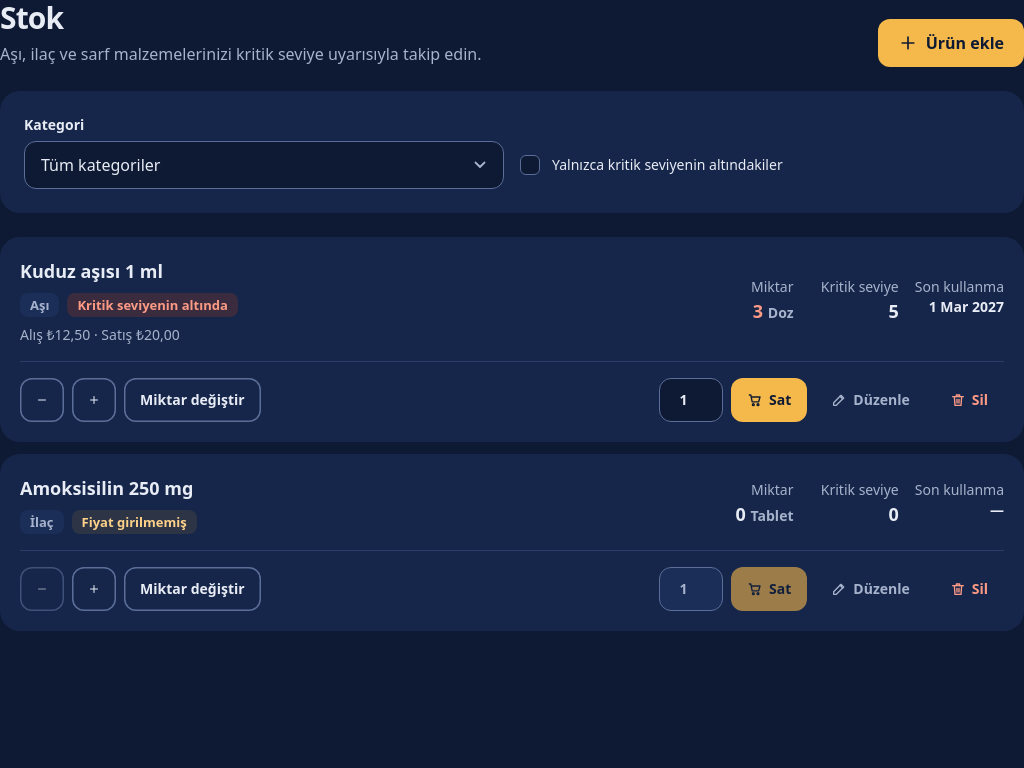
Test: StockPage — miktar değiştir › stoğa ekleme pozitif delta gönderir
Click the button named "Miktar değiştir: Kuduz aşısı 1 ml" at [192, 400], box 124,378 -> 261,422
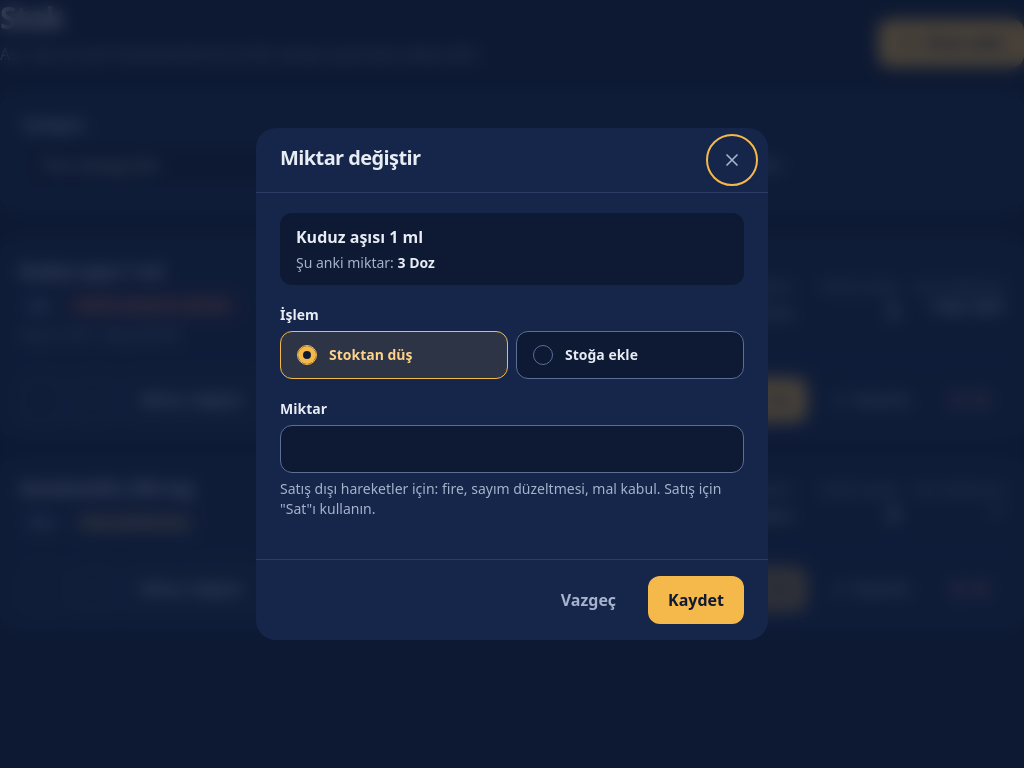
Click the radio button labelled "Stoğa ekle" at [543, 355], box 533,345 -> 553,365
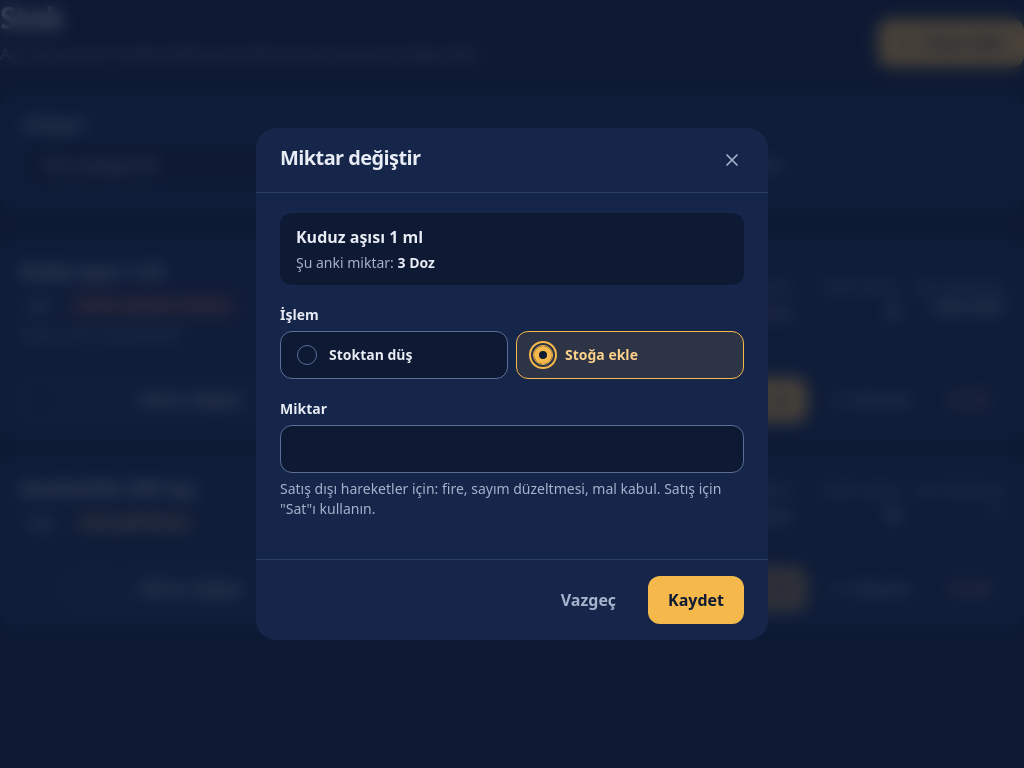
Type "10" into the number field labelled "Miktar" at [512, 449], box 280,425 -> 744,473
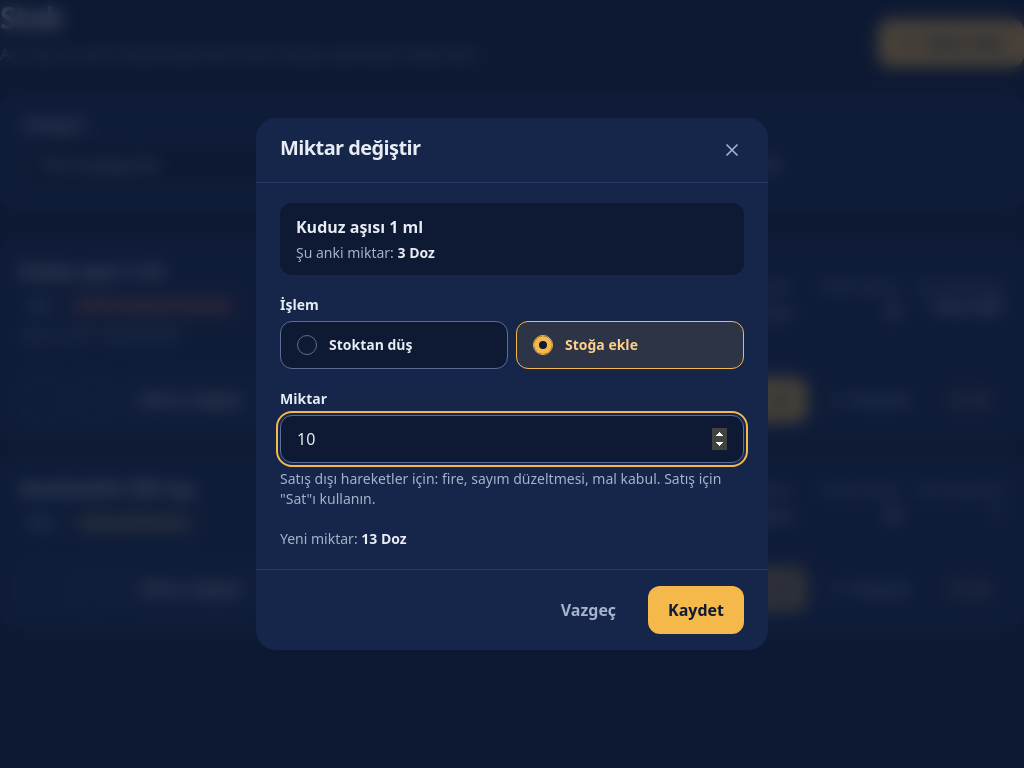
Expected: the text "13 Doz" is shown, 361,529 -> 407,548
Click the button "Kaydet" at [696, 610], box 648,586 -> 744,634
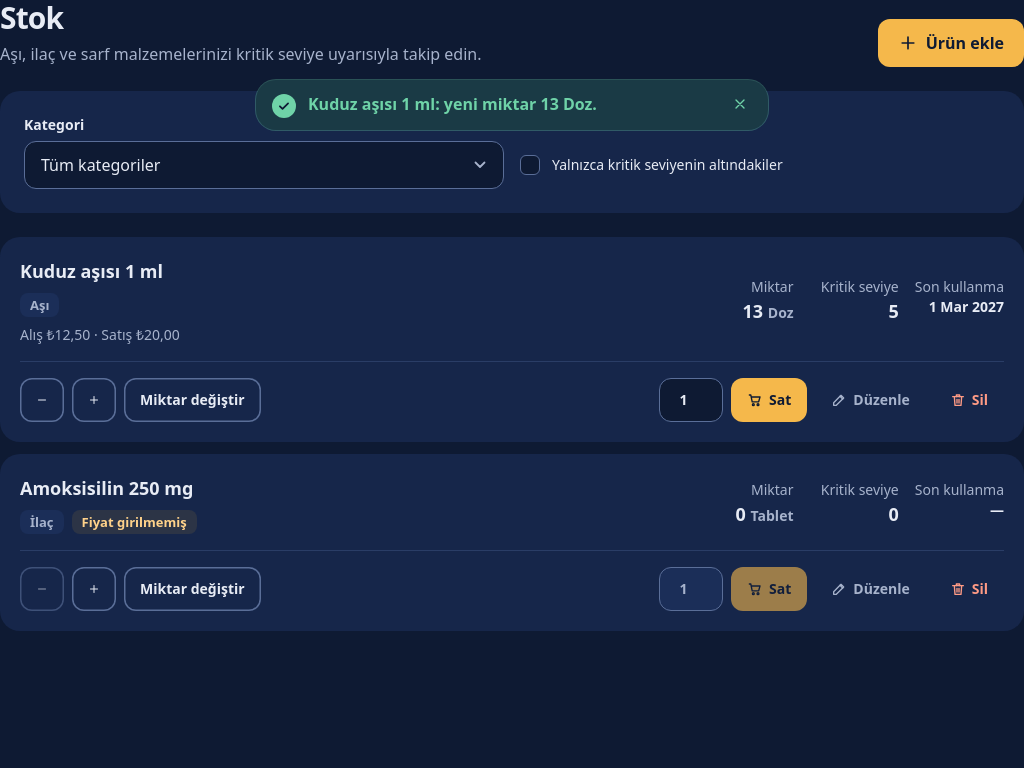
Expected: the text "Kuduz aşısı 1 ml: yeni miktar 13 Doz." is shown, 308,93 -> 597,115
Expected: the dialog is gone
